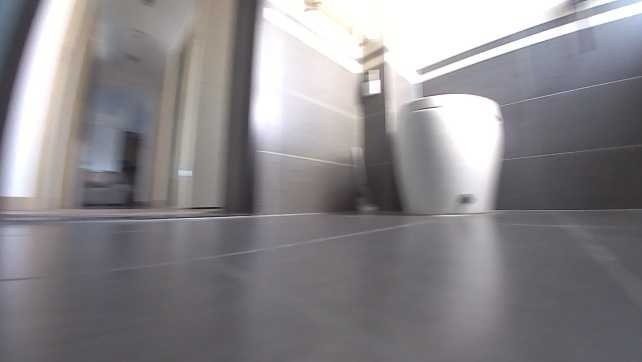toilet: (395, 88, 508, 217)
